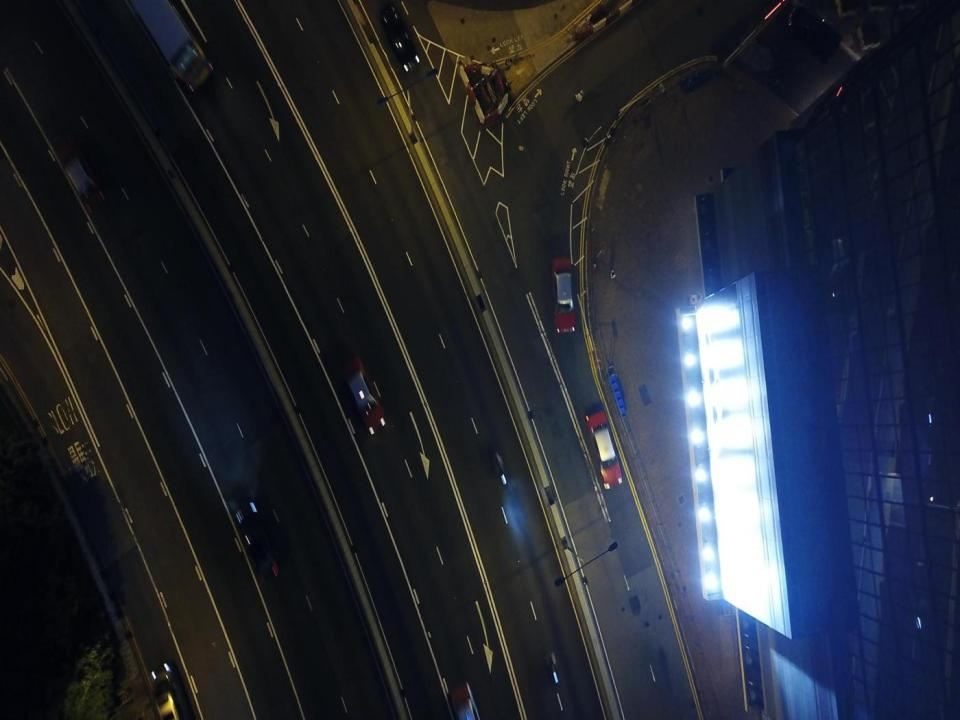car: (344, 354, 386, 438), (235, 502, 279, 580), (586, 412, 622, 489), (61, 154, 105, 215), (380, 4, 420, 71), (552, 257, 575, 334)
truck: (134, 2, 216, 90)
van: (149, 662, 190, 719), (448, 683, 480, 719)
